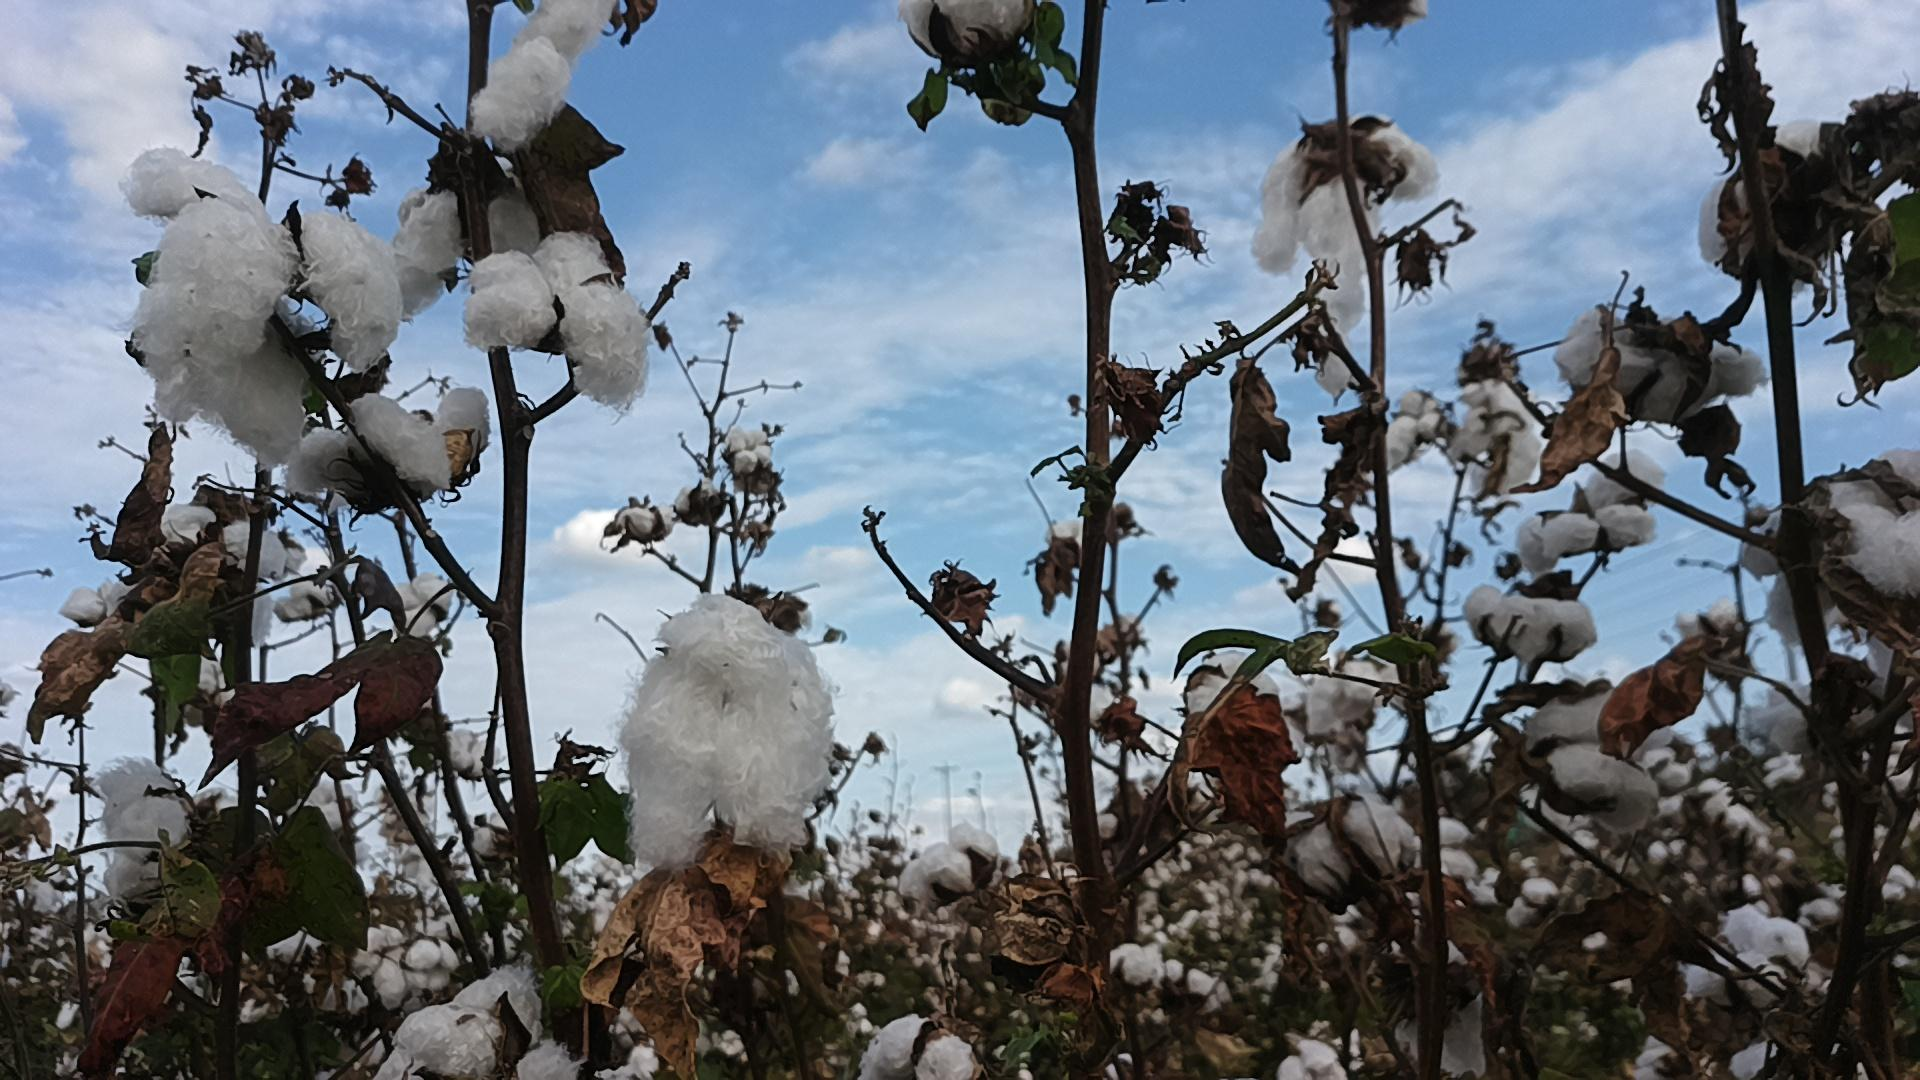cotton_ready: (121, 144, 407, 371), (625, 591, 837, 866), (1253, 107, 1447, 398), (463, 231, 650, 415), (1696, 117, 1873, 295), (1549, 302, 1770, 418), (393, 162, 549, 323), (380, 960, 584, 1080), (285, 385, 489, 501), (156, 314, 309, 464), (1807, 448, 1920, 640), (1526, 687, 1662, 836), (473, 0, 613, 144), (1516, 451, 1660, 564), (1735, 502, 1844, 645), (1183, 647, 1299, 778), (1683, 909, 1813, 1015), (96, 761, 195, 899), (1286, 794, 1412, 899), (162, 502, 307, 582), (1464, 584, 1600, 665), (1455, 382, 1544, 502), (901, 823, 1001, 913), (895, 0, 1030, 66), (1307, 654, 1404, 737), (860, 1018, 981, 1080), (1741, 679, 1829, 757), (61, 576, 141, 622)
